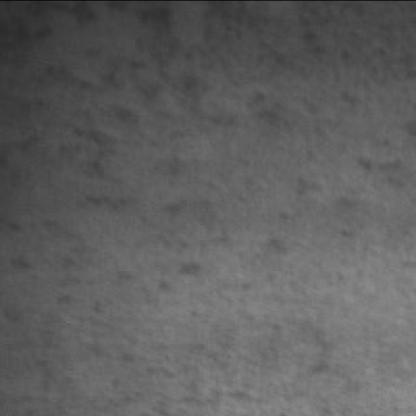pitted_surface: (35, 19, 391, 270), (21, 204, 345, 399)
